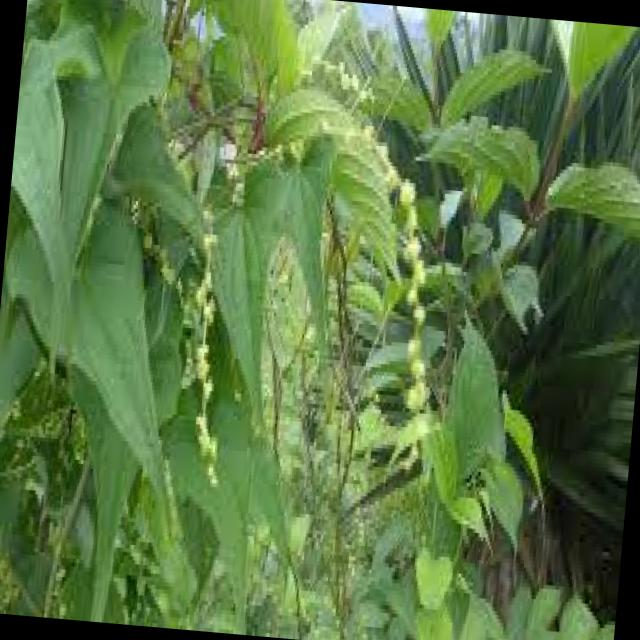Yam: (346, 4, 629, 302), (294, 70, 502, 463), (0, 237, 206, 606), (407, 307, 589, 640), (2, 0, 197, 295), (148, 372, 351, 640), (186, 158, 345, 379)
